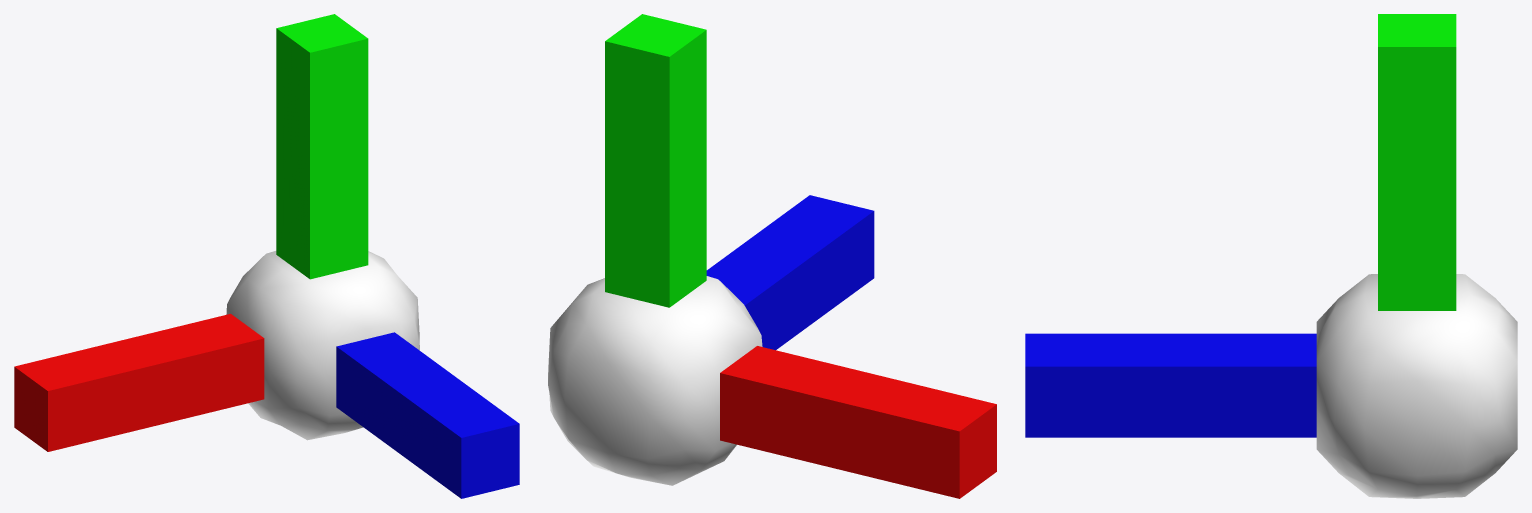
Rendered from axis.fbx.
The picture shows the model from 3 angles, left to right: view 1: azimuth 30°, elevation 25°; view 2: azimuth 150°, elevation 25°; view 3: azimuth 270°, elevation 25°; orthographic projection. The views are drawn at different scales.
Parts seen in each view (by area): view 1: axis; view 2: axis; view 3: axis.
Part boxes in pixels (<box>): axis: <box>14,14,519,498</box>; axis: <box>548,14,996,498</box>; axis: <box>1025,14,1517,498</box>.
Bounding box in the file's own units: 0.6283 × 0.6283 × 0.6283.
1 material, 1 textured.
